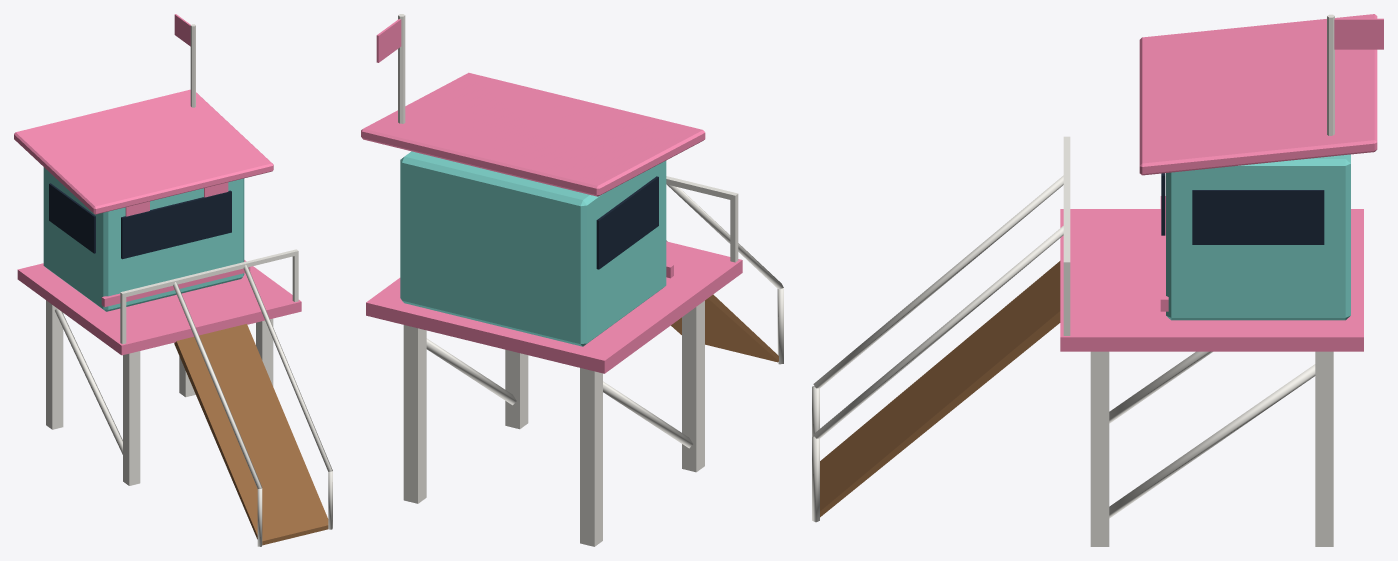
File: lifeguard_tower.glb
3 renders of one model, left to right at view 1: azimuth 30°, elevation 25°; view 2: azimuth 150°, elevation 25°; view 3: azimuth 270°, elevation 25°, orthographic. The views are drawn at different scales.
Visible parts, largest first — view 1: lifeguard_tower; view 2: lifeguard_tower; view 3: lifeguard_tower.
Part boxes in pixels (box(x1,y1,x2,y2)): lifeguard_tower: box(14, 14, 332, 546); lifeguard_tower: box(361, 14, 783, 546); lifeguard_tower: box(812, 14, 1383, 546).
Size of the model in its own units: 2.3 by 4.45 by 4.33.
